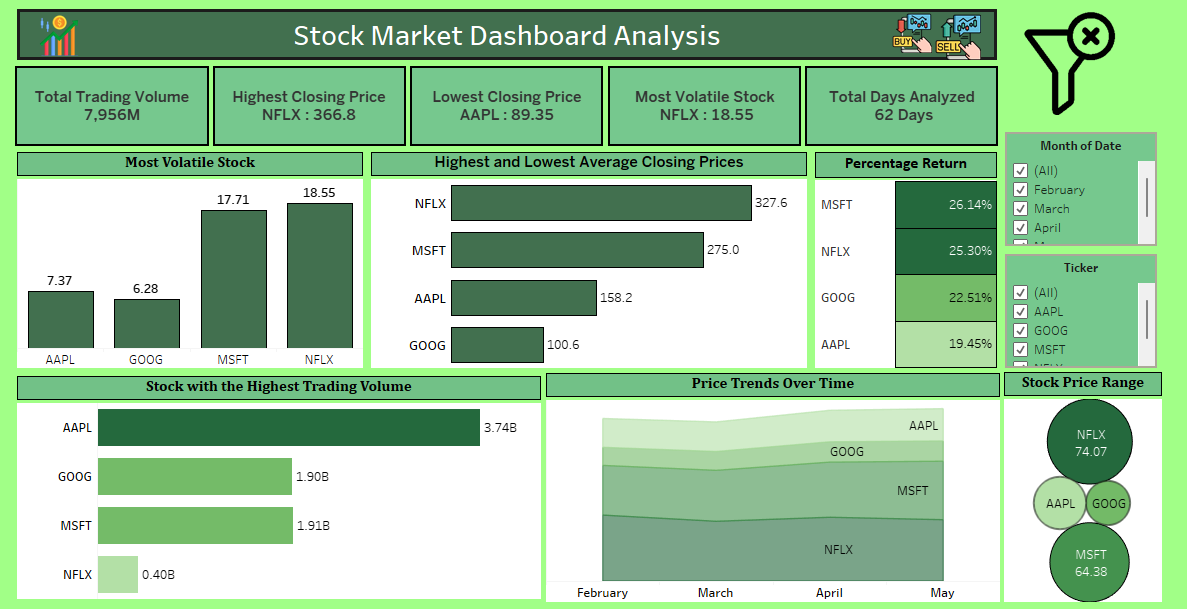

This screenshot's page, from the dashboard's own definition file:
{"tool":"tableau","page":{"name":"Dashboard 1","canvas":[1000,1000],"units":"permille","ordinal":0},"visuals":[{"type":"title","box":[0.9,1.9,857.8,111.7]},{"type":"dashboard-object","box":[852.5,13.3,134.3,172.3]},{"type":"image","param":"C:/Users/hp/Downloads/buy-removebg-preview.png","box":[765.6,15.2,35.1,79.5]},{"type":"image","param":"C:/Users/hp/Downloads/sell-removebg-preview.png","box":[802.5,17.1,40.4,81.4]},{"type":"image","param":"C:/Users/hp/Downloads/stock-market-removebg-preview.png","box":[22.8,18.9,36,72]},{"type":"worksheet","title":"KPI 1","mark":"Automatic","box":[0.9,113.6,173.8,159.1]},{"type":"worksheet","title":"KPI 2","mark":"Automatic","box":[174.7,113.6,171,159.1]},{"type":"worksheet","title":"KPI 3","mark":"Automatic","box":[345.7,113.6,171,159.1]},{"type":"worksheet","title":"KPI 4","mark":"Automatic","box":[516.7,113.6,171,159.1]},{"type":"worksheet","title":"Kpi 5","mark":"Automatic","box":[687.6,113.6,171,159.1]},{"type":"filter","title":"Bar Chart","param":"[federated.054b1da0tl4vqc1crfydw0j89qez].[mn:Date:ok]","box":[858.6,206.4,140.5,202.7]},{"type":"worksheet","title":"Column Chart","mark":"Automatic","rows":["Calculation_835136279235710976"],"cols":["Ticker"],"box":[0.9,272.7,303,339.9]},{"type":"worksheet","title":"Bar Chart","mark":"Automatic","rows":["Ticker"],"cols":["Adj Close"],"box":[303.8,272.7,389.8,339.9]},{"type":"worksheet","title":"percentage REturn table chart","mark":"Square","rows":["Ticker"],"box":[693.6,272.7,165,339.8]},{"type":"filter","title":"Bar Chart","param":"[federated.054b1da0tl4vqc1crfydw0j89qez].[none:Ticker:nk]","box":[858.6,409.1,140.5,202.7]},{"type":"worksheet","title":"Bar Chart 2","mark":"Automatic","rows":["Ticker"],"cols":["Volume"],"box":[0.9,612.6,462.1,385.5]},{"type":"worksheet","title":"line chart ","mark":"Area","rows":["Close"],"cols":["Date"],"box":[462.9,612.6,395.7,385.5]},{"type":"worksheet","title":"packked bubbles","mark":"Circle","box":[862.6,614,137.4,384]}]}

Visuals, with their boxes on the dashboard's canvas, which has no fixed pixel size, in thousandths of its width and height (x1, y1, x2, y2). These are canvas units, not pixel positions in the 1187x609 screenshot, which may show the page scaled, cropped or inside an application window:
title: <bbox>1, 2, 859, 114</bbox>
dashboard-object: <bbox>852, 13, 987, 186</bbox>
image: <bbox>766, 15, 801, 95</bbox>
image: <bbox>802, 17, 843, 98</bbox>
image: <bbox>23, 19, 59, 91</bbox>
"KPI 1" worksheet: <bbox>1, 114, 175, 273</bbox>
"KPI 2" worksheet: <bbox>175, 114, 346, 273</bbox>
"KPI 3" worksheet: <bbox>346, 114, 517, 273</bbox>
"KPI 4" worksheet: <bbox>517, 114, 688, 273</bbox>
"Kpi 5" worksheet: <bbox>688, 114, 859, 273</bbox>
"Bar Chart" filter: <bbox>859, 206, 999, 409</bbox>
"Column Chart" worksheet: <bbox>1, 273, 304, 613</bbox>
"Bar Chart" worksheet: <bbox>304, 273, 694, 613</bbox>
"percentage REturn table chart" worksheet (Square marks): <bbox>694, 273, 859, 612</bbox>
"Bar Chart" filter: <bbox>859, 409, 999, 612</bbox>
"Bar Chart 2" worksheet: <bbox>1, 613, 463, 998</bbox>
"line chart " worksheet (Area marks): <bbox>463, 613, 859, 998</bbox>
"packked bubbles" worksheet (Circle marks): <bbox>863, 614, 1000, 998</bbox>
